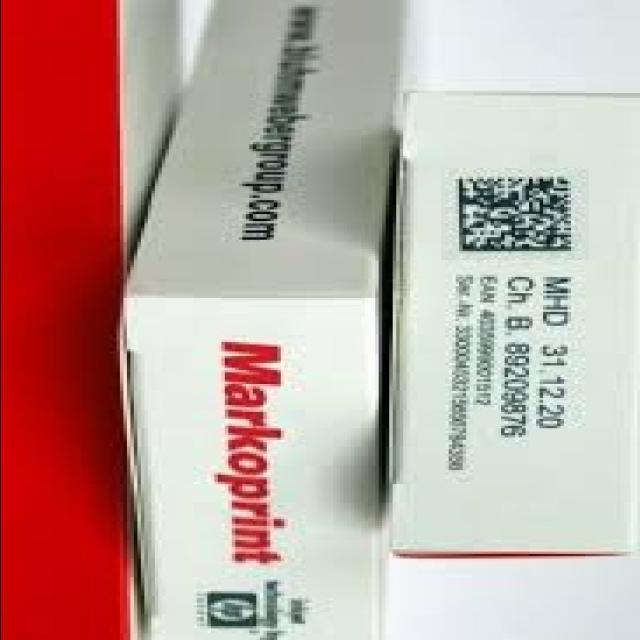Data-Matrix: (440, 168, 588, 260)
